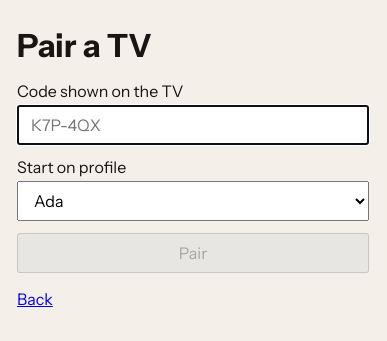
Scenario: Pair › claims a code on the chosen profile
Expected: the button "Pair" is disabled, [17,232,369,272]
Type "k7p-4qx" into the field labelled "Code shown on the TV". click: (193, 124)
box: [17,104,369,144]
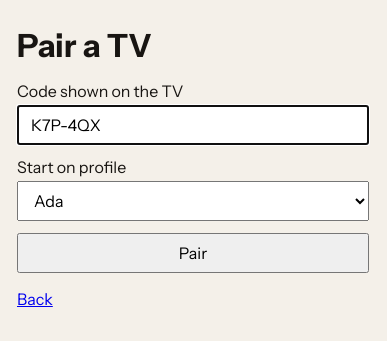
Click the button "Pair". click: (193, 252)
box: [17,232,369,272]
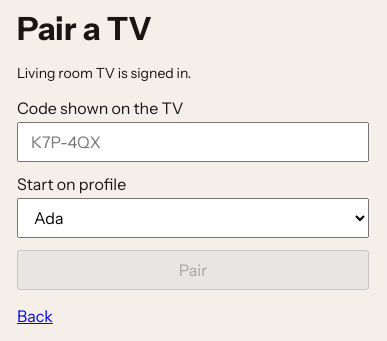
Result: the message reads "Living room TV is signed in." at [17,64,191,82]
